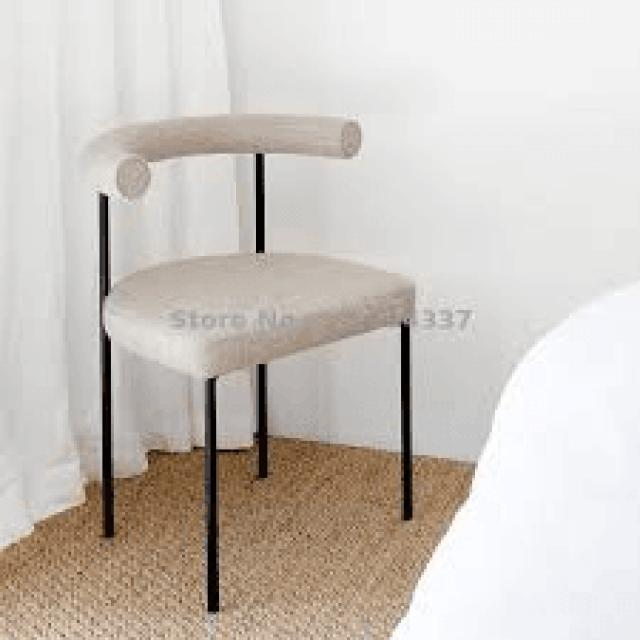chair: (73, 106, 420, 619), (74, 116, 428, 352)
